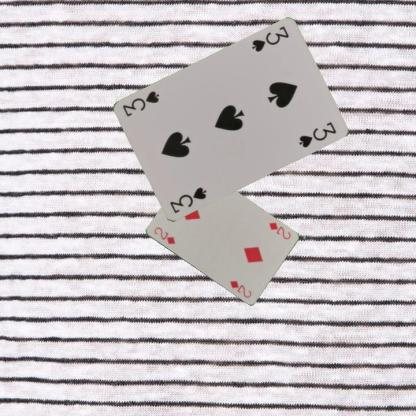2d: (266, 219, 292, 241), (152, 224, 176, 246)
3s: (167, 184, 208, 215), (248, 24, 290, 53)
